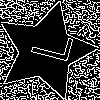L: (20, 25, 74, 65)
